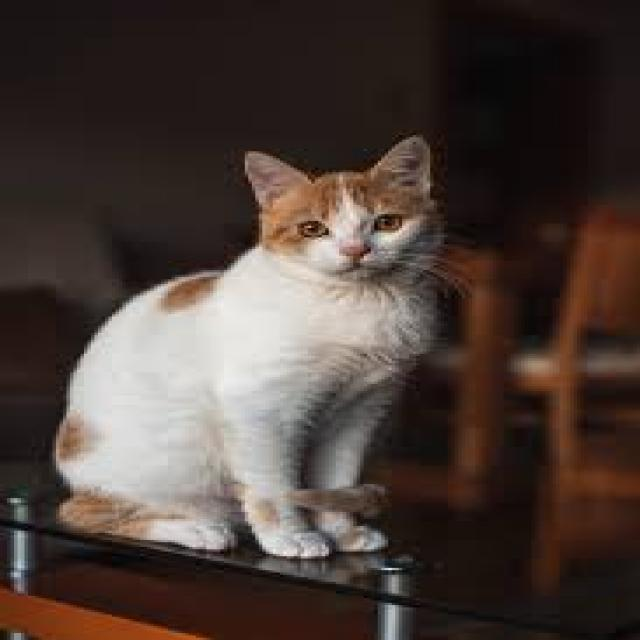Cat: (46, 128, 448, 566)
